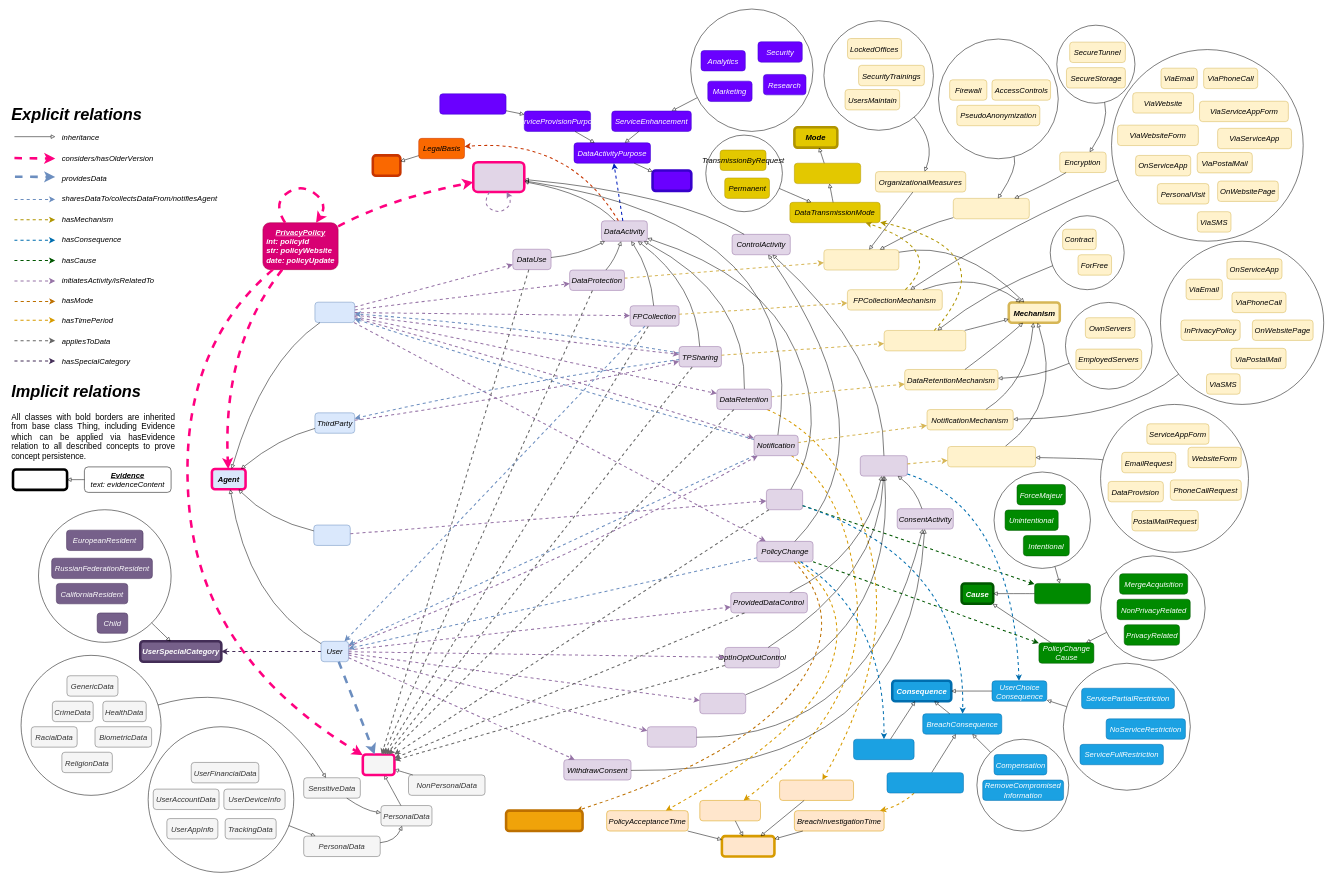
Some shapes in this 1333 by 881 pixel diagram are drawn without their labels. The box of each missing label's shape, as (x1, y1, x2, y2) in pixels:
Activity bool: does: (472, 161, 525, 193)
Basis: (371, 154, 401, 177)
Breach: (766, 489, 803, 510)
BreachCause: (1034, 583, 1090, 604)
BreachInvestigation: (886, 772, 963, 793)
Criminals: (313, 525, 350, 545)
Data: (361, 753, 395, 776)
DataControl: (860, 455, 907, 476)
DataControlMechanism: (947, 446, 1036, 467)
DataRetentionTime: (779, 780, 854, 800)
FirstParty: (314, 302, 355, 323)
GiveConsent: (647, 726, 697, 747)
HealthMonitoring: (439, 93, 506, 114)
MechanismMode: (794, 163, 861, 184)
NotificationTime: (699, 800, 761, 821)
OptControl: (699, 693, 746, 714)
PolicyChange Consequence: (853, 739, 914, 760)
PolicyScopeChange: (505, 809, 584, 832)
Purpose: (651, 169, 692, 192)
SecurityMechanism: (823, 249, 899, 270)
TechnicalMeasures: (953, 198, 1029, 219)
Thing: (11, 468, 68, 491)
TimePeriod: (720, 835, 775, 858)
TPSharingMechanism: (884, 330, 966, 351)
